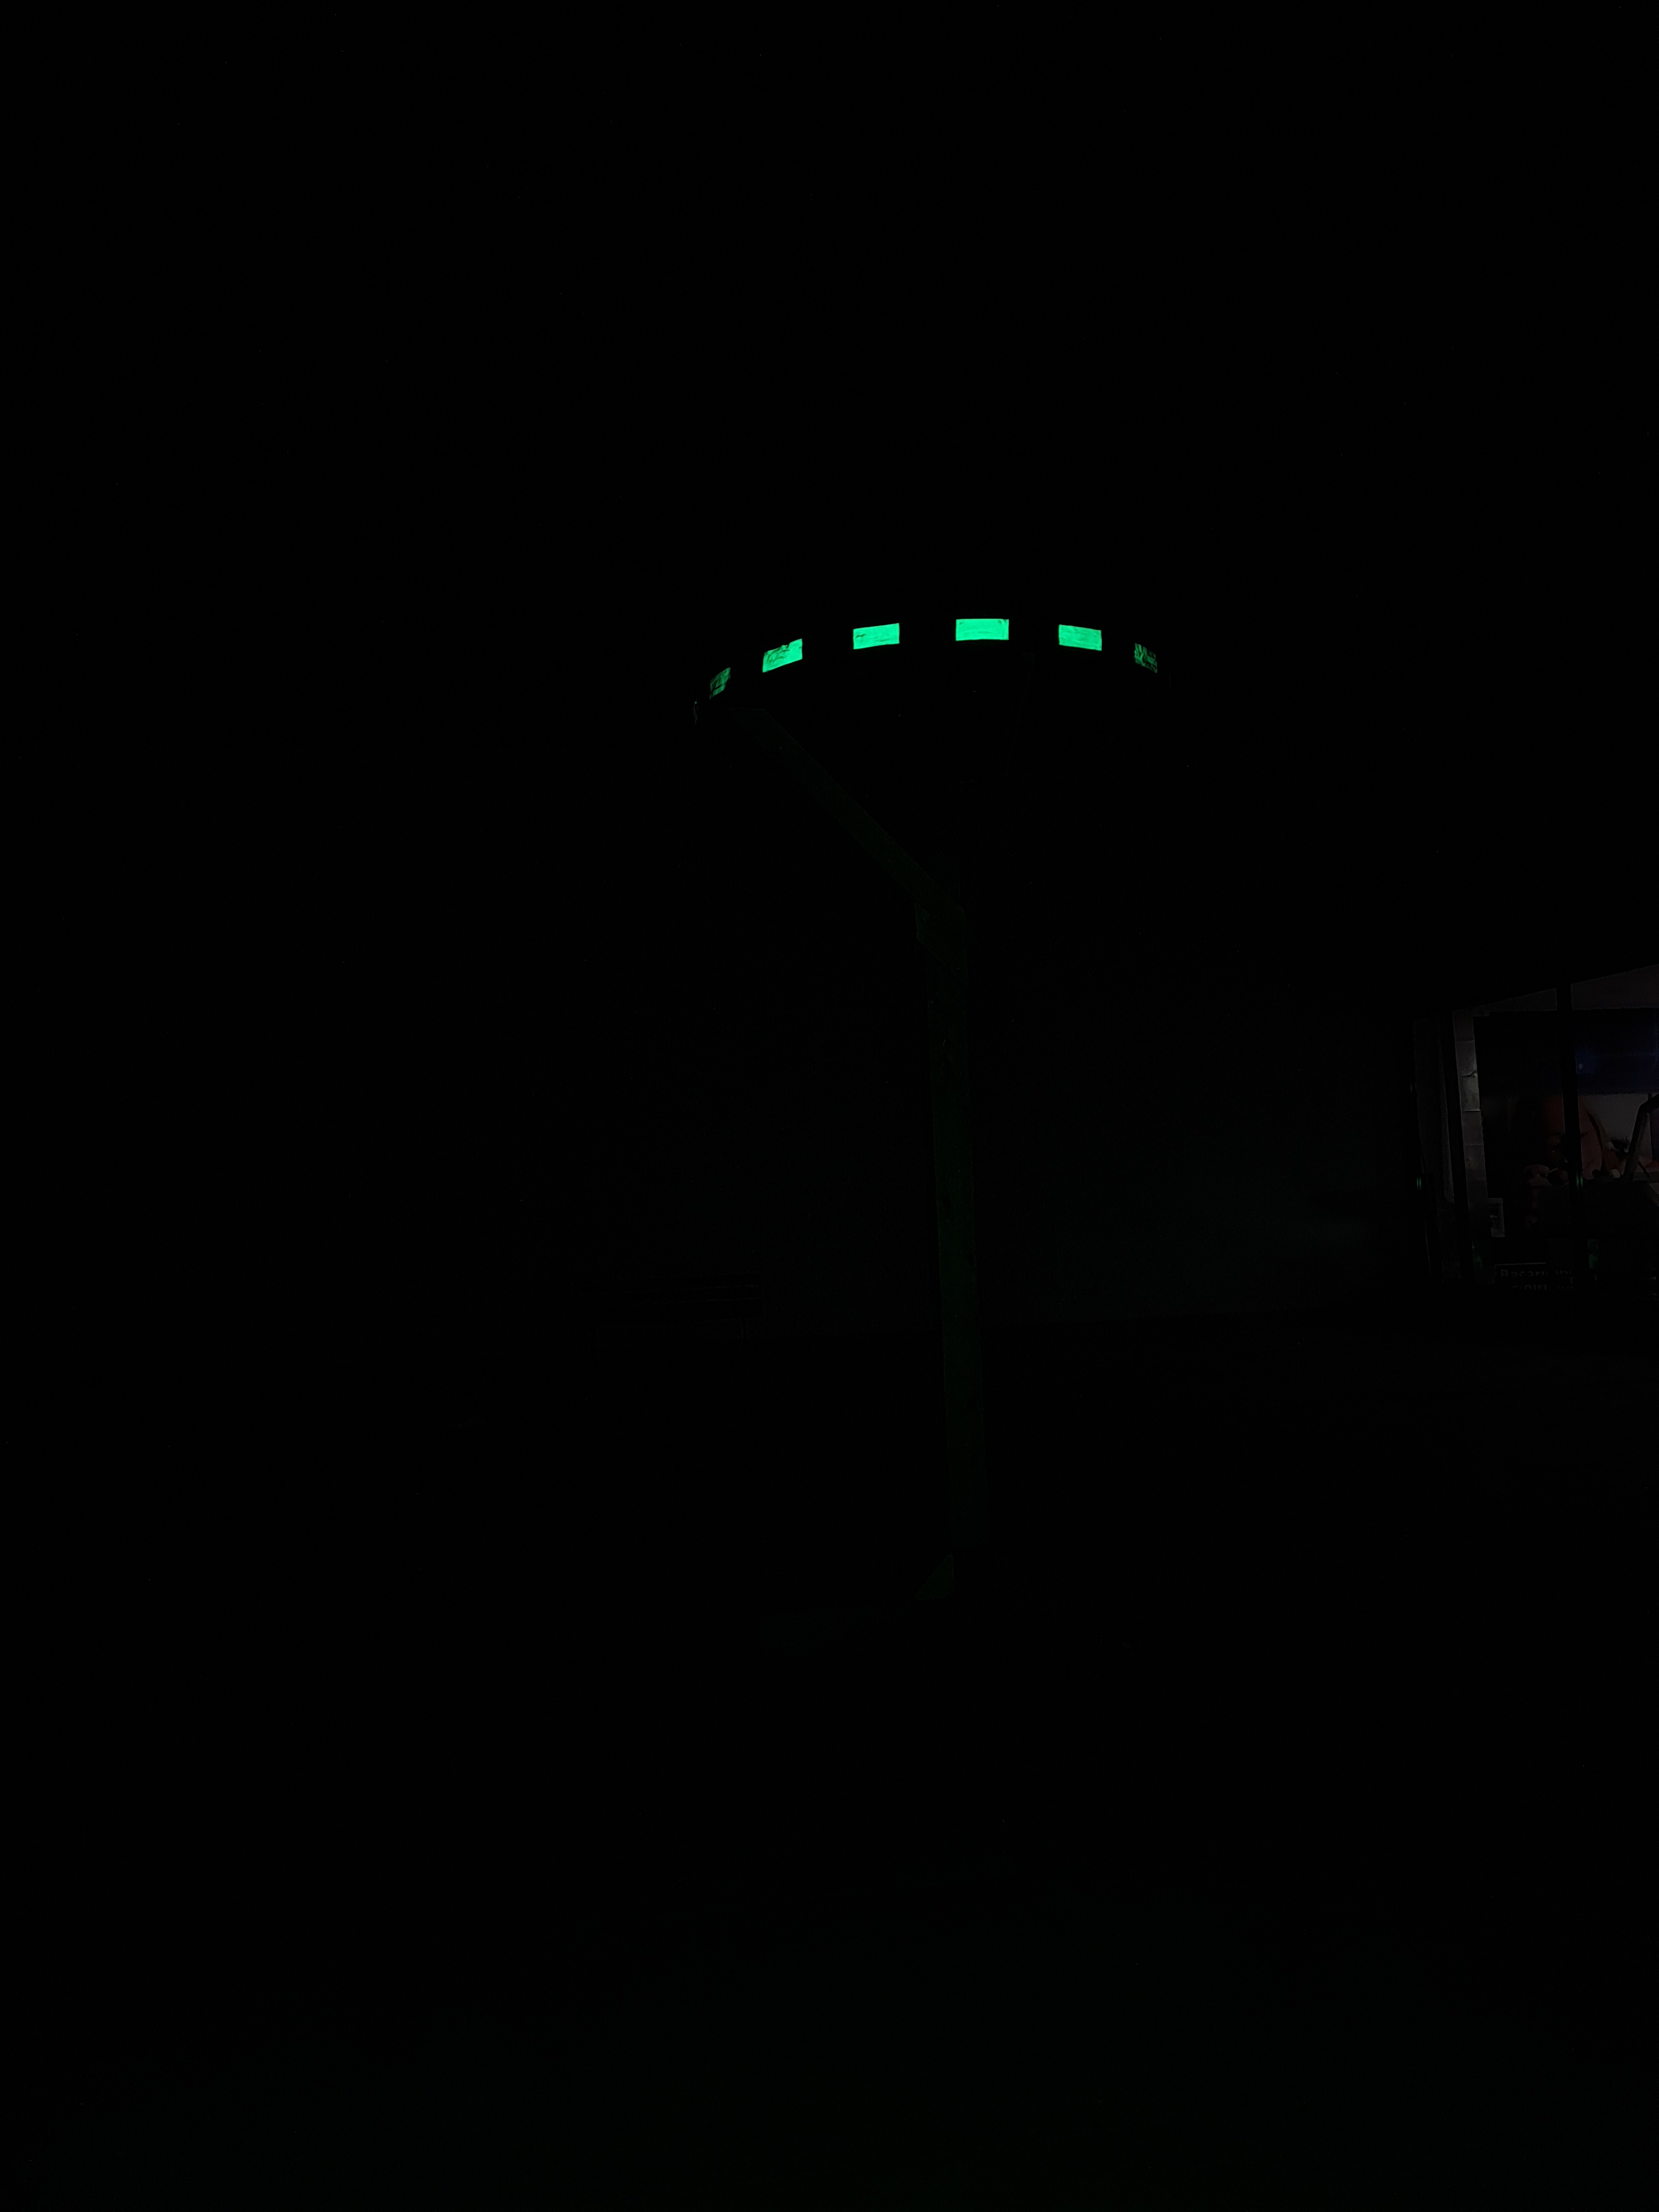hoop: (697, 592, 1201, 719)
